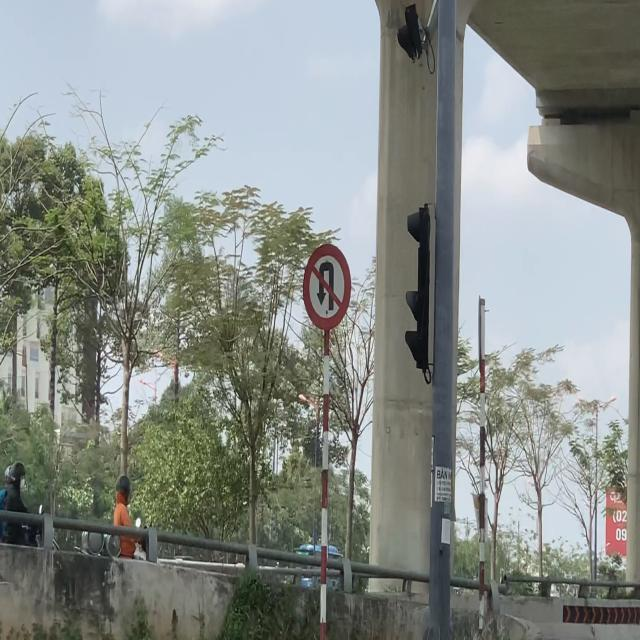Cam quay dau xe: (302, 243, 351, 334)
